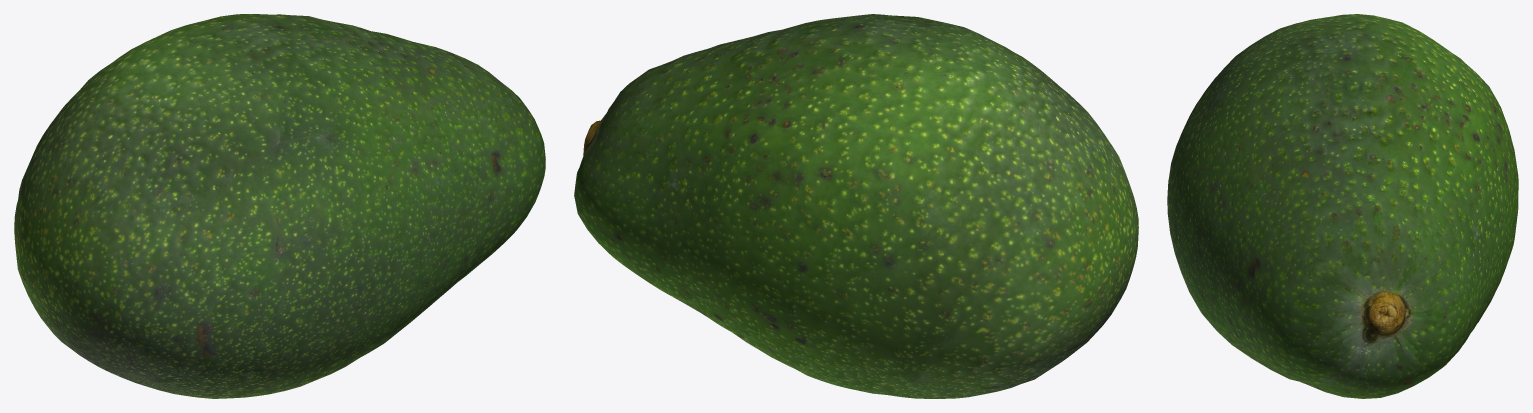
Rendered from avocado.glb.
3 views of the same model, side by side, from view 1: azimuth 30°, elevation 25°; view 2: azimuth 150°, elevation 25°; view 3: azimuth 270°, elevation 25° (orthographic). The views are drawn at different scales.
Parts seen in each view (by area): view 1: Object_2; view 2: Object_2; view 3: Object_2.
Part boxes in pixels (x1,y1,x2,y2): Object_2: (14, 14, 545, 398); Object_2: (574, 14, 1138, 398); Object_2: (1167, 14, 1518, 398).
Size of the model in its own units: 15.41 by 10.07 by 9.97.
1 material, 1 textured.
